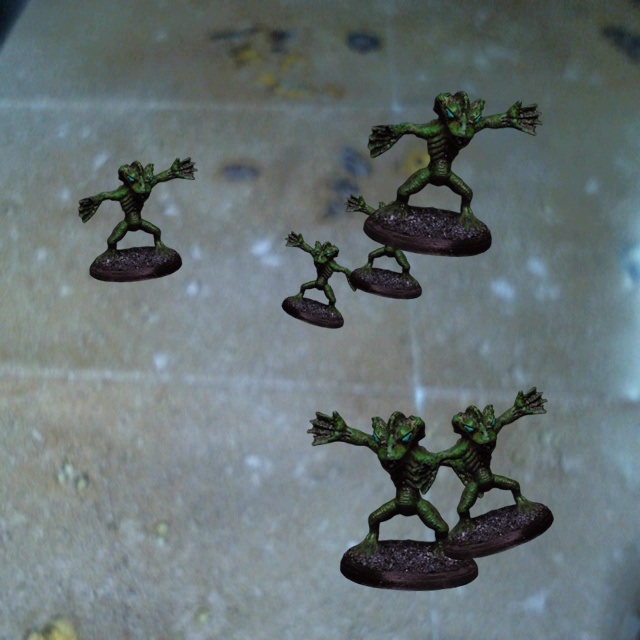pieza_juego: (307, 411, 487, 590), (363, 91, 542, 256), (412, 387, 553, 559), (78, 157, 197, 282), (344, 194, 435, 298), (282, 231, 360, 328)
